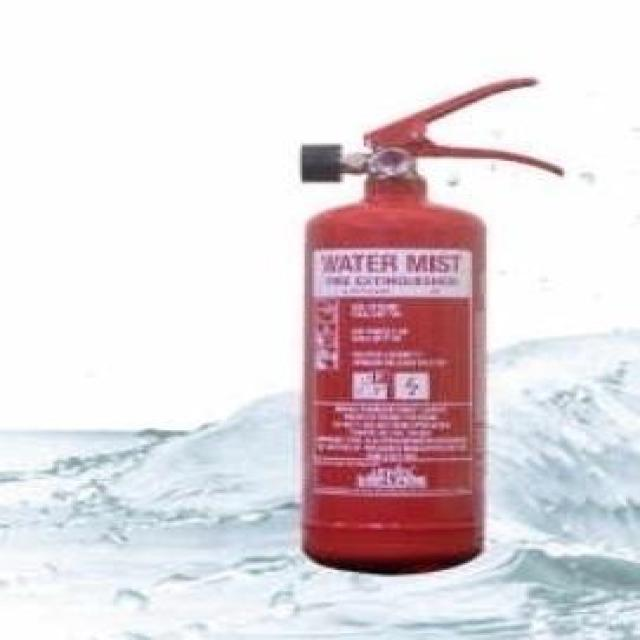fire_extinguisher: (286, 72, 569, 577)
